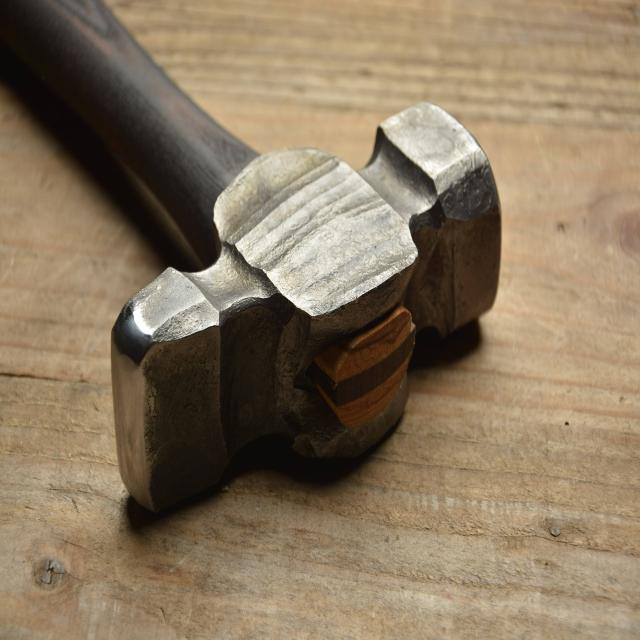hammer: (0, 0, 501, 533)
